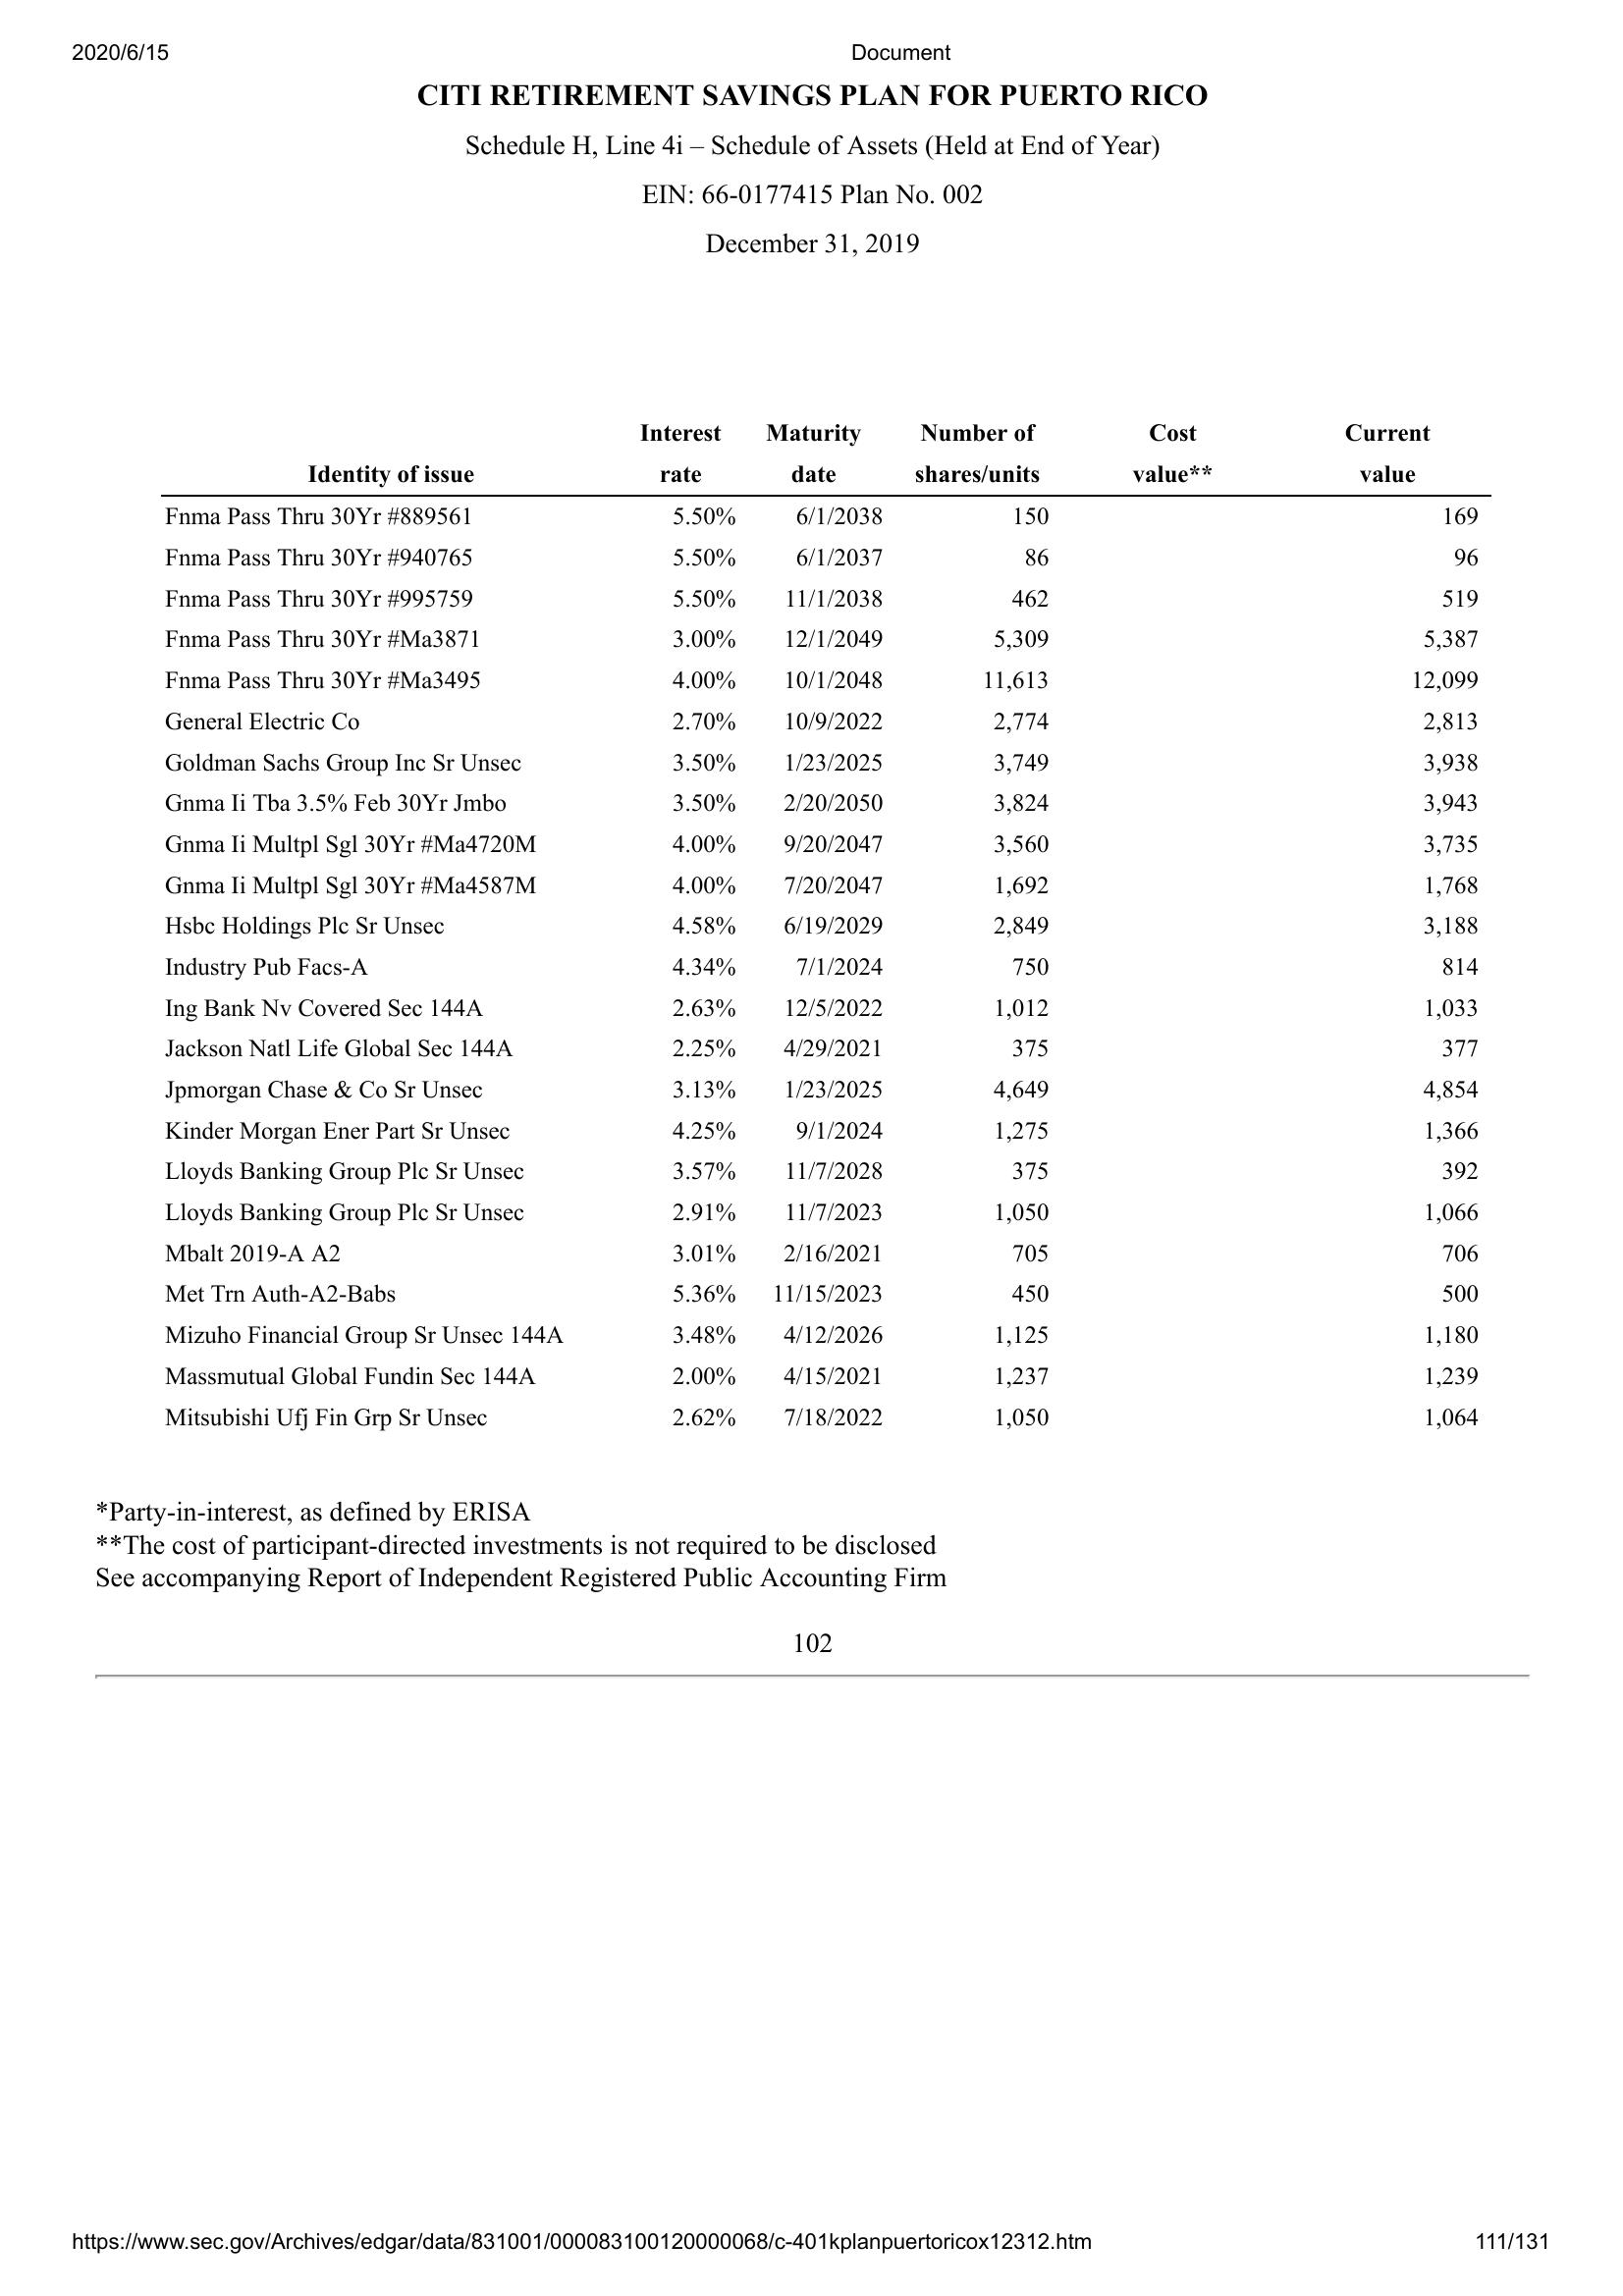table: (151, 421, 1511, 1450)
